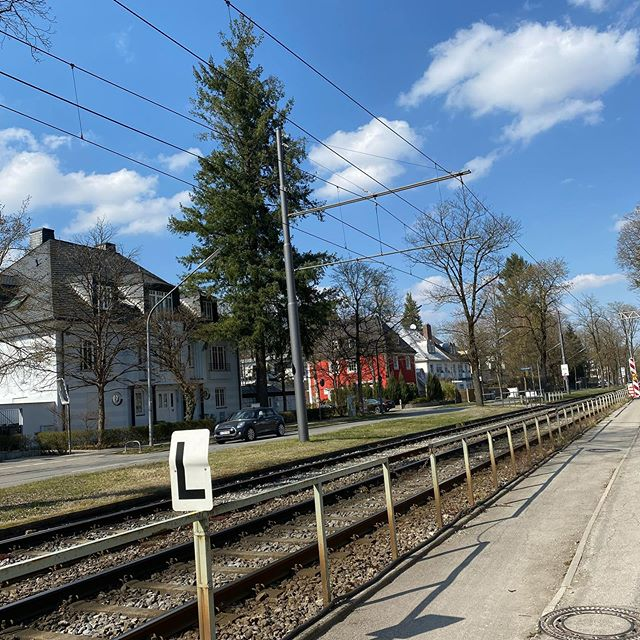building: (1, 235, 248, 444), (300, 315, 416, 413), (407, 301, 476, 403)
car: (203, 396, 290, 441)
sign: (167, 431, 220, 512)
sky: (1, 1, 631, 306)
train track: (7, 394, 640, 635)
tree: (167, 23, 330, 402), (35, 257, 141, 443), (417, 197, 506, 395), (320, 248, 401, 422), (501, 235, 561, 394)
